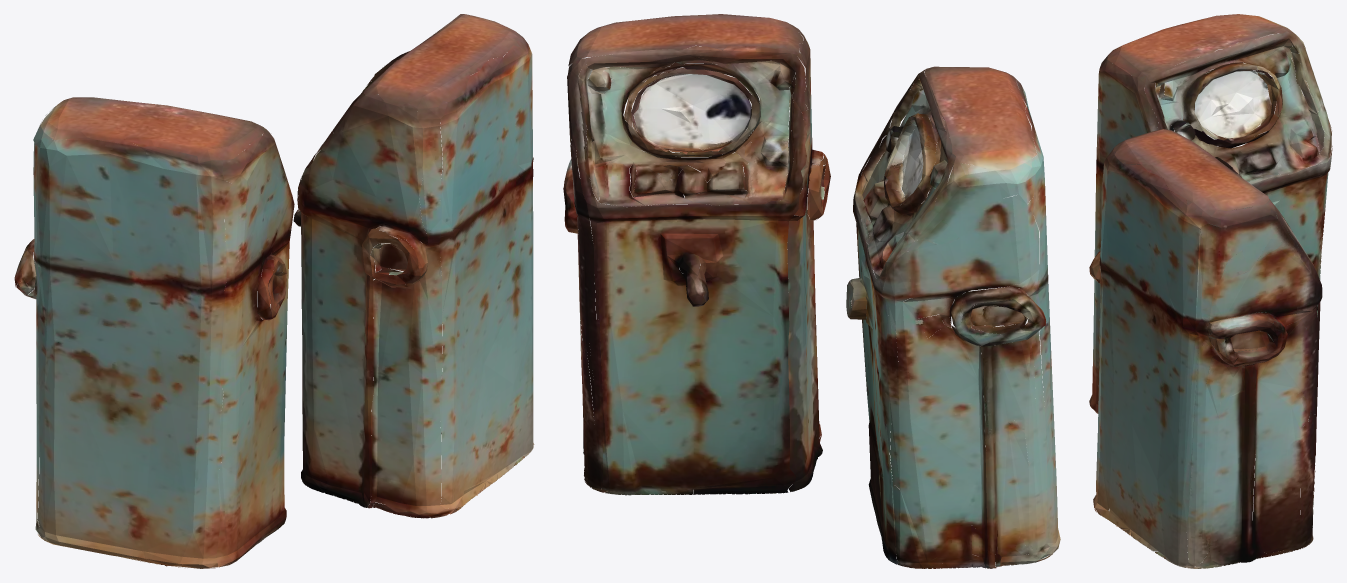
The model's file is gas-pump-pair.glb.
3 views of the same model, side by side, from view 1: azimuth 30°, elevation 25°; view 2: azimuth 150°, elevation 25°; view 3: azimuth 270°, elevation 25° (orthographic). The views are drawn at different scales.
Visible parts, largest first — view 1: tmpaacapjw0.ply; view 2: tmpaacapjw0.ply; view 3: tmpaacapjw0.ply.
Part boxes in pixels (x1,y1,x2,y2): tmpaacapjw0.ply: (14,14,534,568); tmpaacapjw0.ply: (563,14,1060,568); tmpaacapjw0.ply: (1089,14,1332,568).
Bounding box in the file's own units: 2.5 × 2 × 1.2.
Materials: 1 (1 with a texture image).
